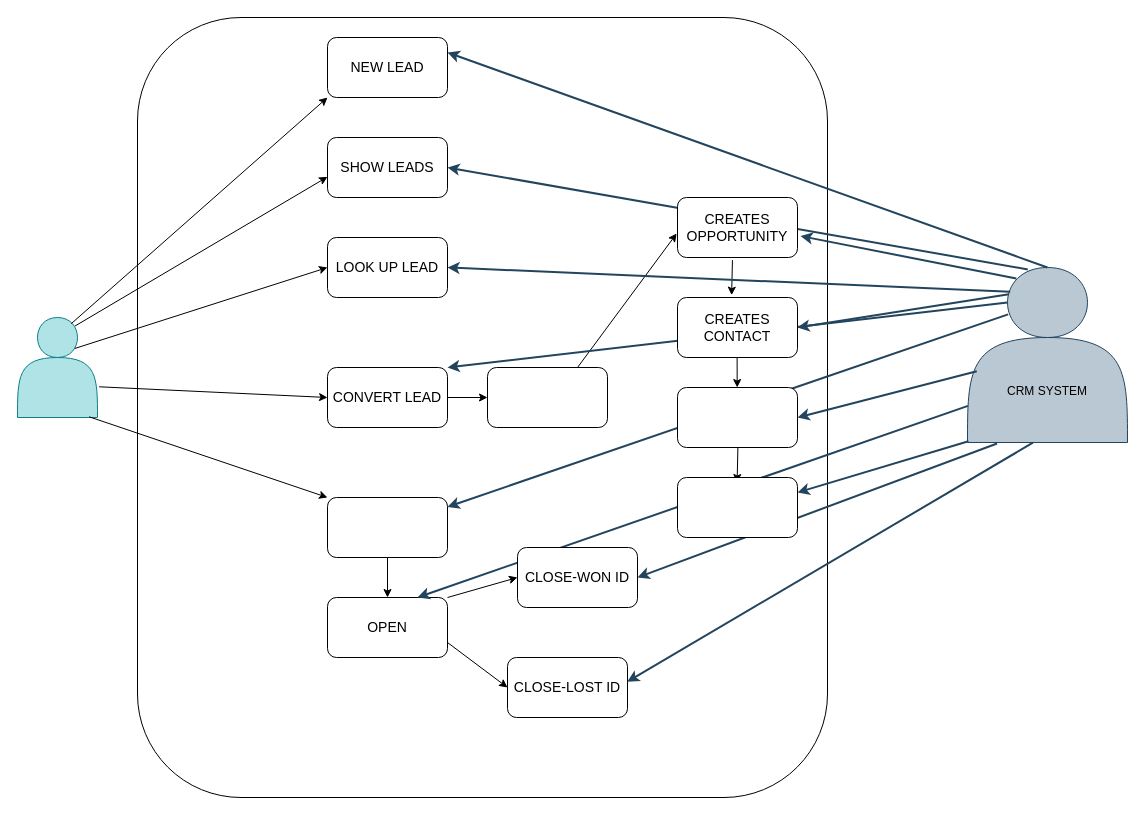
Image size: 1145x815. Some labels were removed from this diagram. The centre of each missing label's shape, as x and y in pixels:
"CONVERT STATUS" belongs at point (387, 527).
"CREATES ACCOUNT" belongs at point (737, 417).
"ELIMINATES LEAD WITH THAT ID" belongs at point (737, 507).
"ID" belongs at point (547, 397).
"USER" belongs at point (57, 367).
